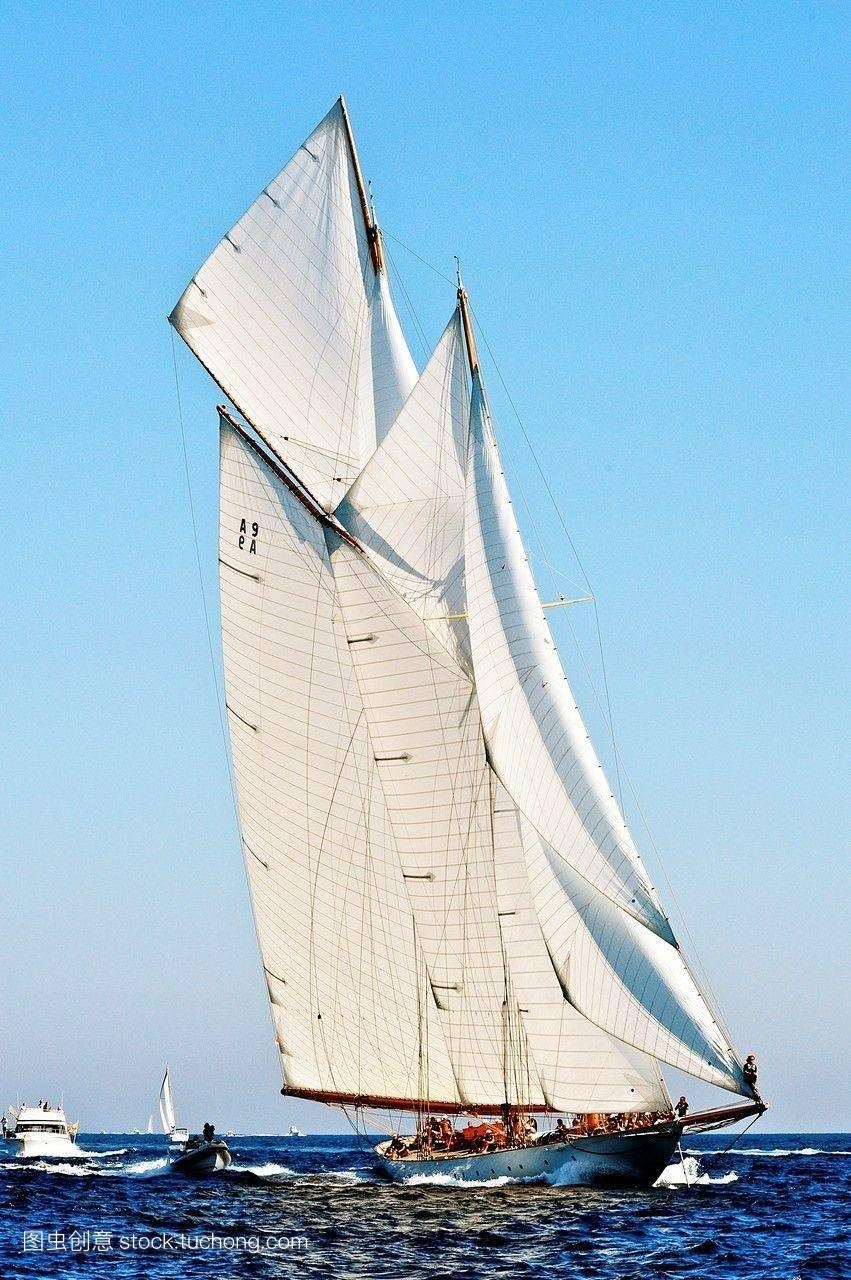fanchuan: (160, 92, 774, 1204)
otherboat: (142, 1119, 233, 1200), (8, 1102, 89, 1183)
